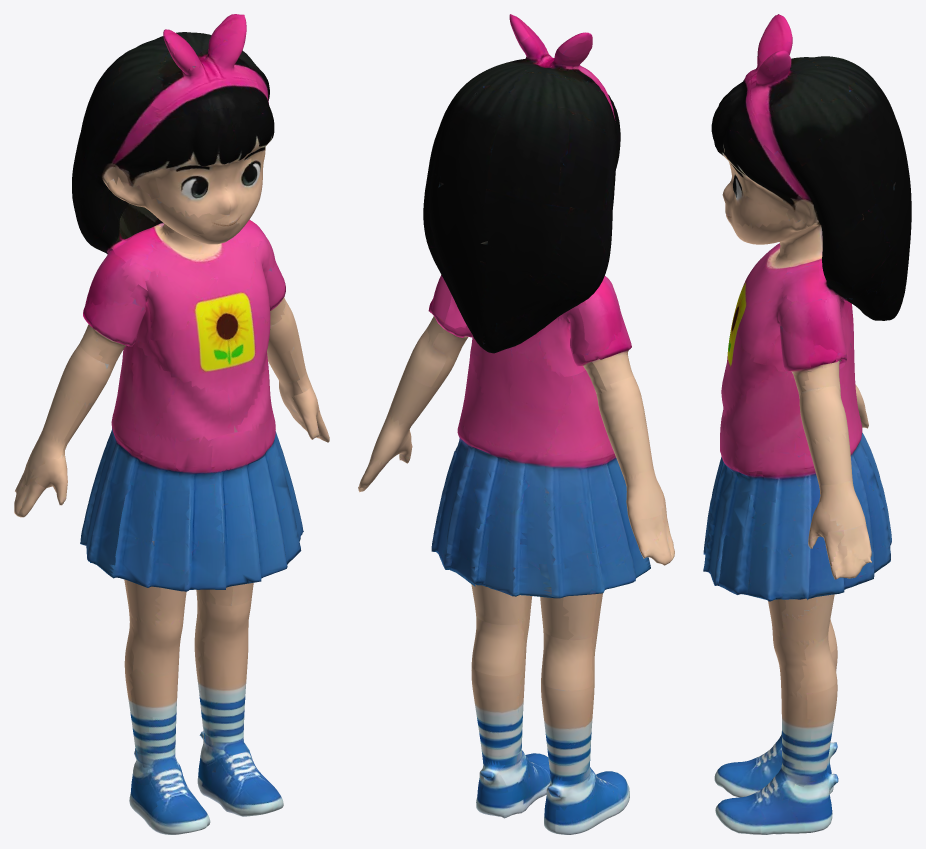
The model's file is avatar-tee-skirt.glb.
The picture shows the model from 3 angles, left to right: view 1: azimuth 30°, elevation 25°; view 2: azimuth 150°, elevation 25°; view 3: azimuth 270°, elevation 25°; orthographic projection.
Visible parts, largest first — view 1: avatar-tee-skirt-mesh; view 2: avatar-tee-skirt-mesh; view 3: avatar-tee-skirt-mesh.
Boxes of the visible parts, x1,y1,x2,y2 form: avatar-tee-skirt-mesh: [14, 14, 329, 834]; avatar-tee-skirt-mesh: [358, 14, 674, 834]; avatar-tee-skirt-mesh: [703, 14, 911, 834].
Size of the model in its own units: 0.6218 by 1.5 by 0.3658.
Materials: 1 (1 with a texture image).
